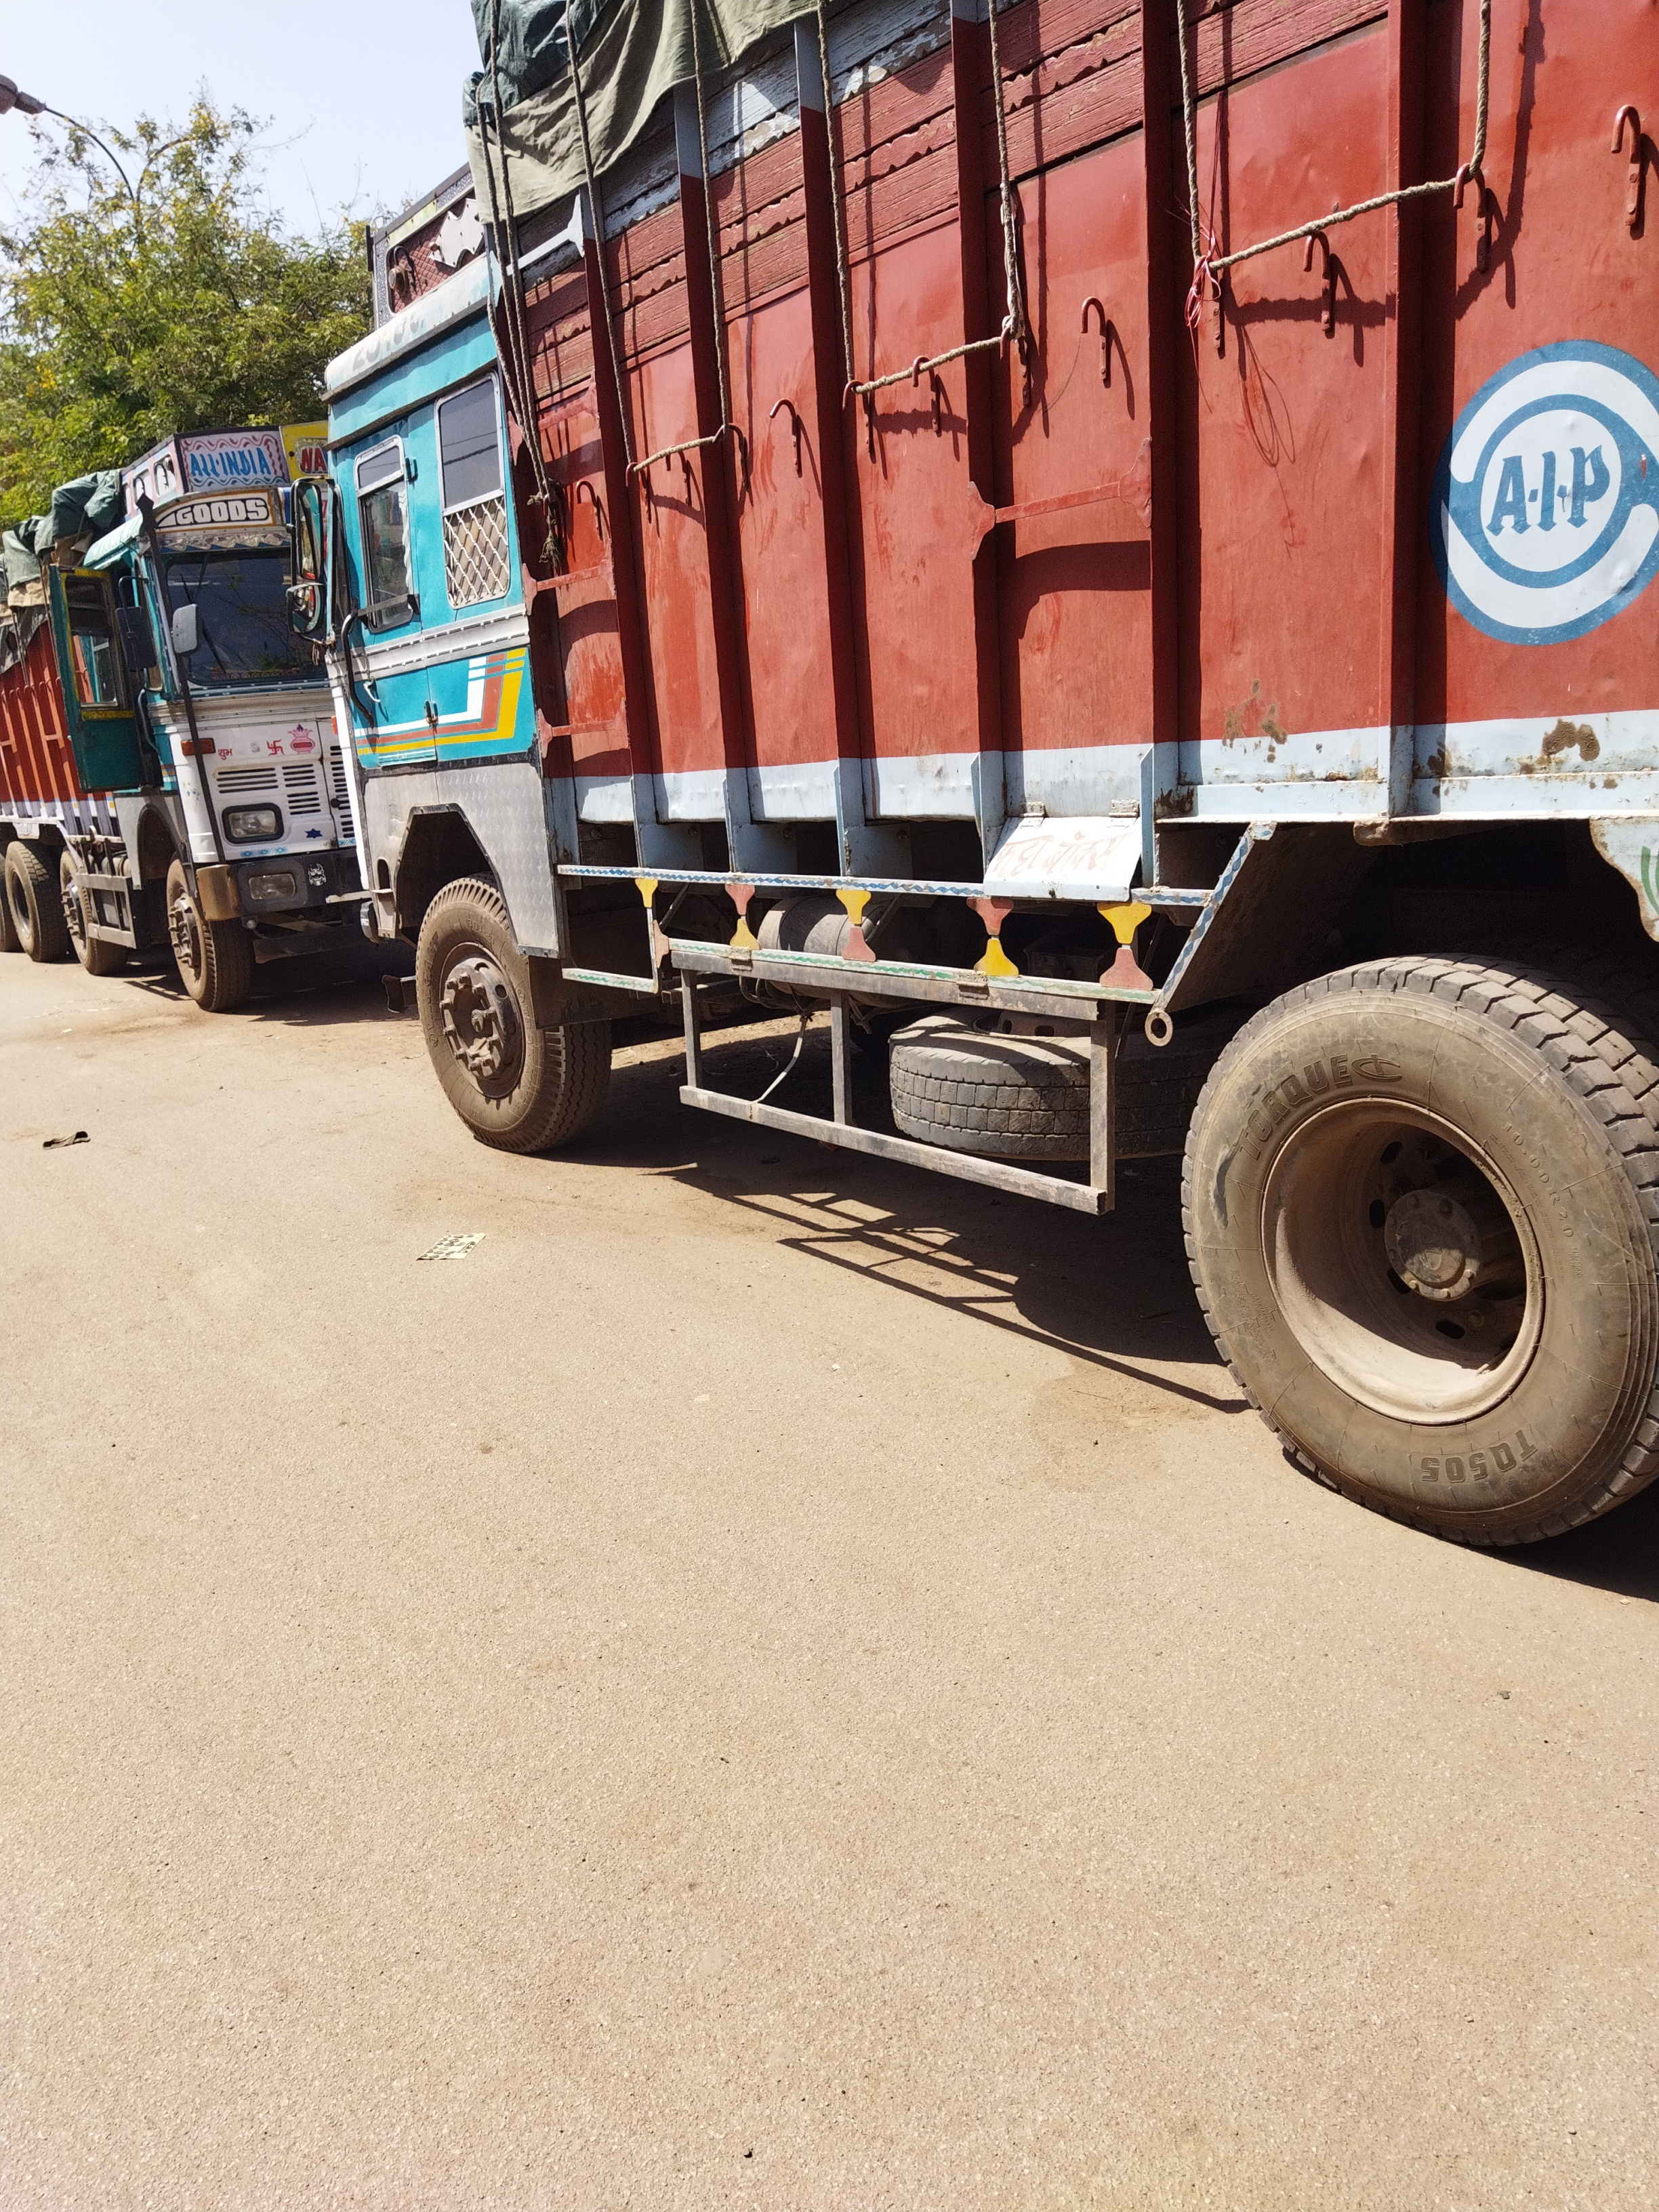truck: (272, 2, 1659, 1555), (0, 421, 373, 1014)
